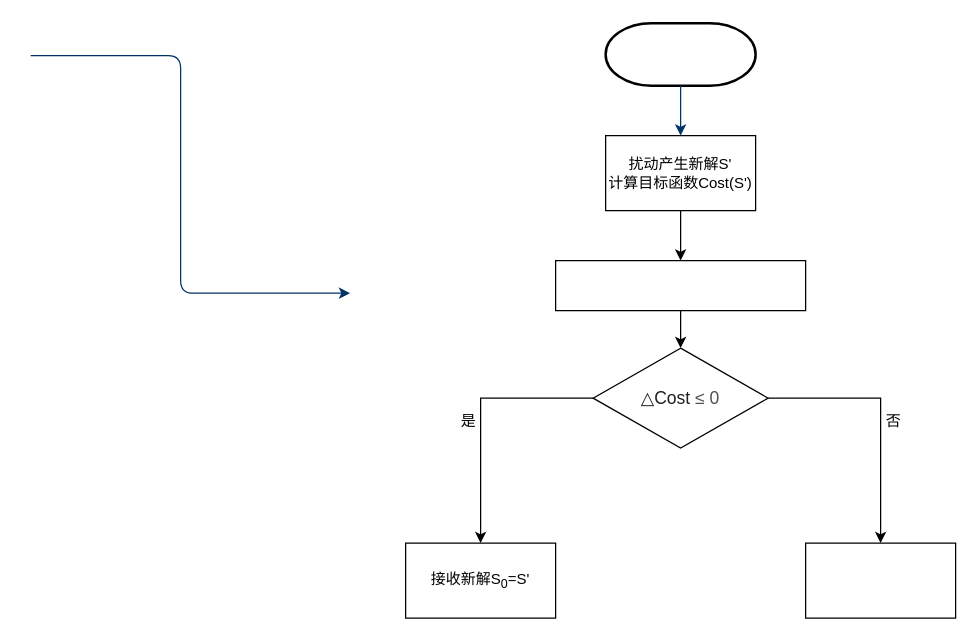
The diagram is 978 pixels wide and 640 high, and some of its shapes have lost their labels. The centre of each missing label's shape, as x and y in pixels:
△Cost = Cost(S')-Cost(S 0 ): point 680,285
随机生成初始解S 0 计算目标函数Cost(S 0 ): point 680,53
